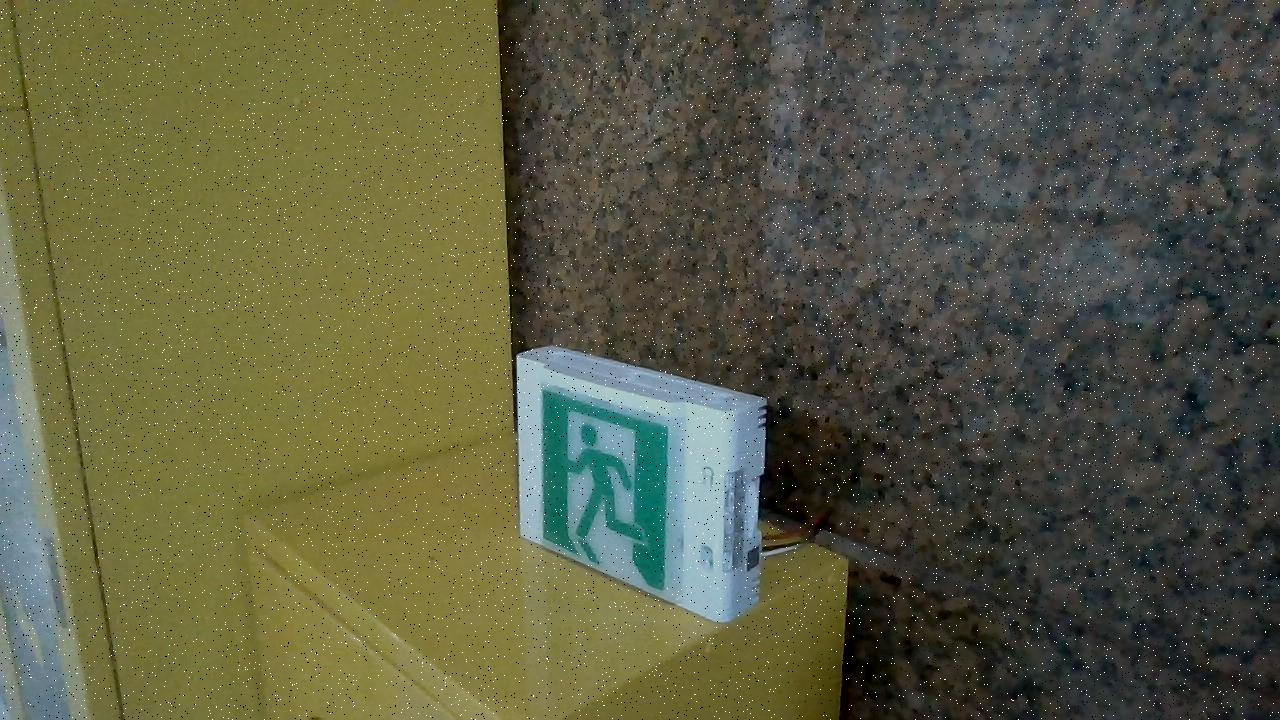emergency_exit: (514, 344, 769, 624)
